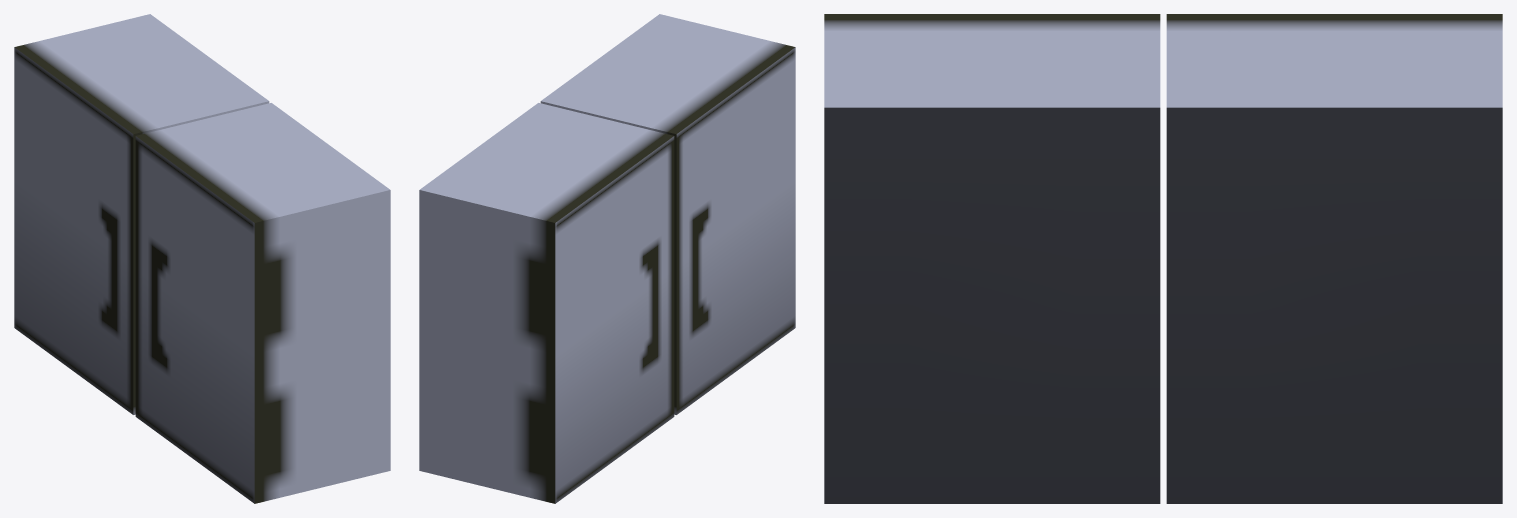
File: WallLocker3.fbx
3 renders of one model, left to right at view 1: azimuth 30°, elevation 25°; view 2: azimuth 150°, elevation 25°; view 3: azimuth 270°, elevation 25°, orthographic. The views are drawn at different scales.
Visible parts, largest first — view 1: Куб.170; view 2: Куб.170; view 3: Куб.170.
Part boxes in pixels (box(x1,y1,x2,y2)): Куб.170: box(14, 14, 390, 503); Куб.170: box(419, 14, 795, 503); Куб.170: box(824, 14, 1502, 503).
Size of the model in its own units: 38.55 by 76.18 by 118.
